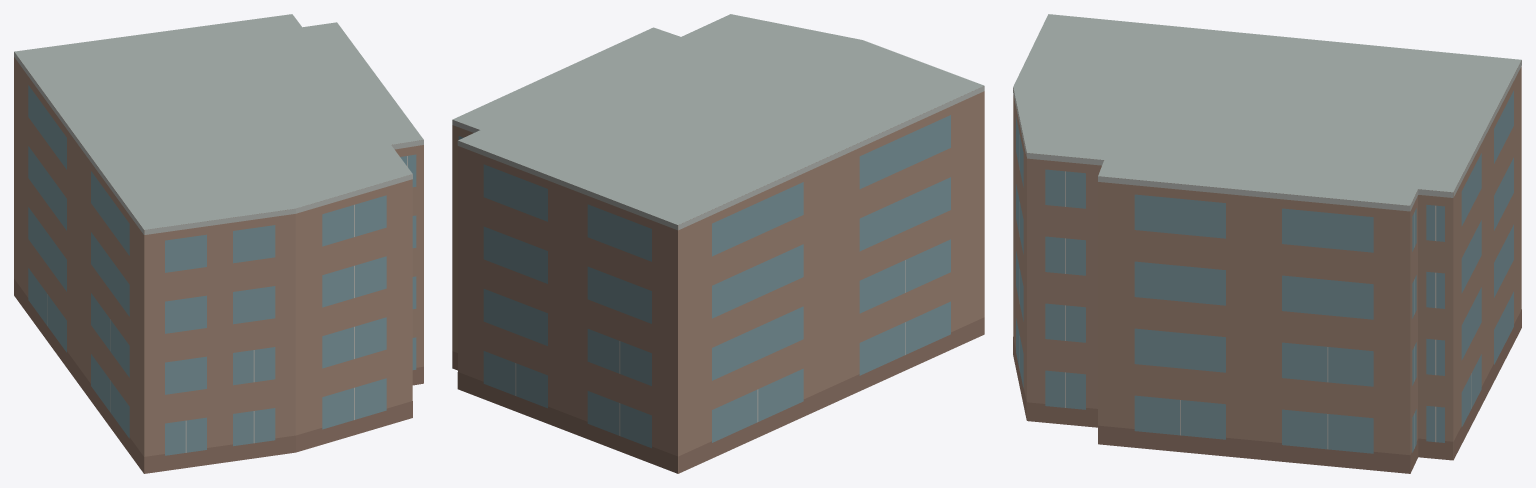
Rendered from survey-upis-32904766.glb.
3 renders of one model, left to right at view 1: azimuth 30°, elevation 25°; view 2: azimuth 150°, elevation 25°; view 3: azimuth 270°, elevation 25°, orthographic. The views are drawn at different scales.
Visible parts, largest first — view 1: survey-upis-32904766.tmp; view 2: survey-upis-32904766.tmp; view 3: survey-upis-32904766.tmp.
Part boxes in pixels (box(x1,y1,x2,y2)): survey-upis-32904766.tmp: box(14, 14, 423, 473); survey-upis-32904766.tmp: box(452, 14, 984, 473); survey-upis-32904766.tmp: box(1013, 14, 1521, 473).
Size of the model in its own units: 17.65 by 11.5 by 19.78.
